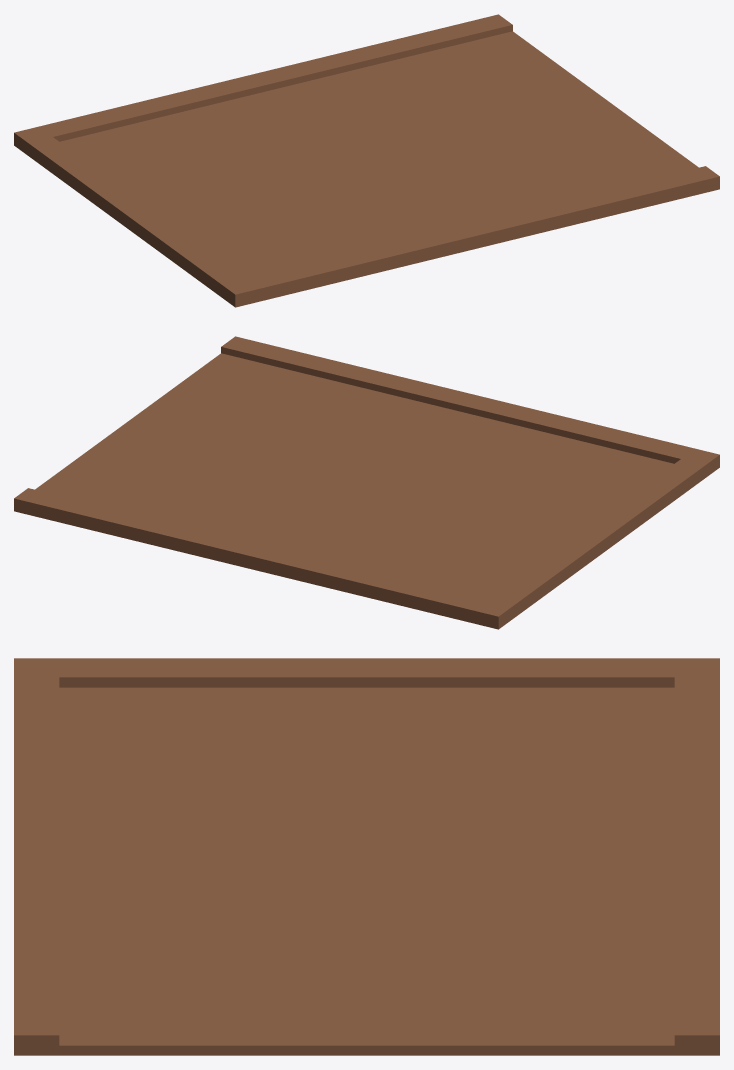
File: BottomBoard.fbx
3 views of the same model, one above another, from view 1: azimuth 30°, elevation 25°; view 2: azimuth 150°, elevation 25°; view 3: azimuth 270°, elevation 25° (orthographic). The views are drawn at different scales.
Parts seen in each view (by area): view 1: Cube; view 2: Cube; view 3: Cube.
Boxes of the visible parts, bbox=[...] form: Cube: bbox=[14, 14, 719, 307]; Cube: bbox=[14, 336, 719, 629]; Cube: bbox=[14, 658, 719, 1055].
Bounding box in the file's own units: 39.3 × 1 × 31.1.
